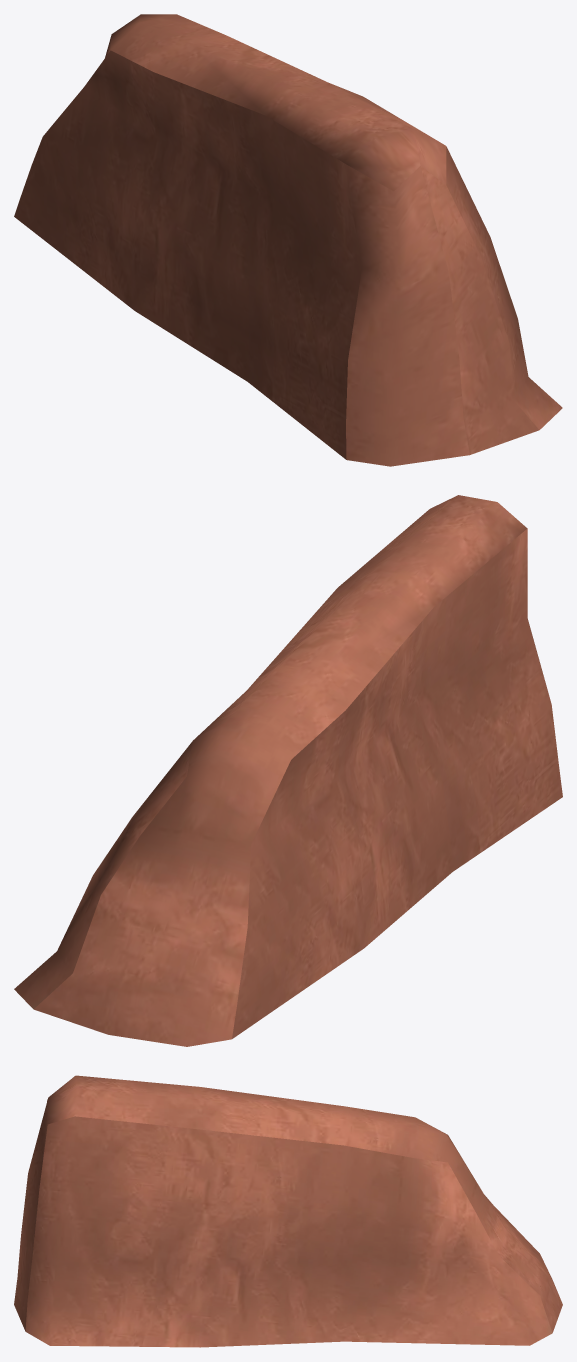
File: pm-mountain-04.glb
3 views of the same model, one above another, from view 1: azimuth 30°, elevation 25°; view 2: azimuth 150°, elevation 25°; view 3: azimuth 270°, elevation 25° (orthographic). The views are drawn at different scales.
Visible parts, largest first — view 1: Mountain04; view 2: Mountain04; view 3: Mountain04.
Boxes of the visible parts, x1,y1,x2,y2 form: Mountain04: (14,14,562,466); Mountain04: (14,495,562,1046); Mountain04: (14,1075,562,1347).
Bounding box in the file's own units: 1.62 × 2.03 × 4.76.
1 material, 1 textured.
